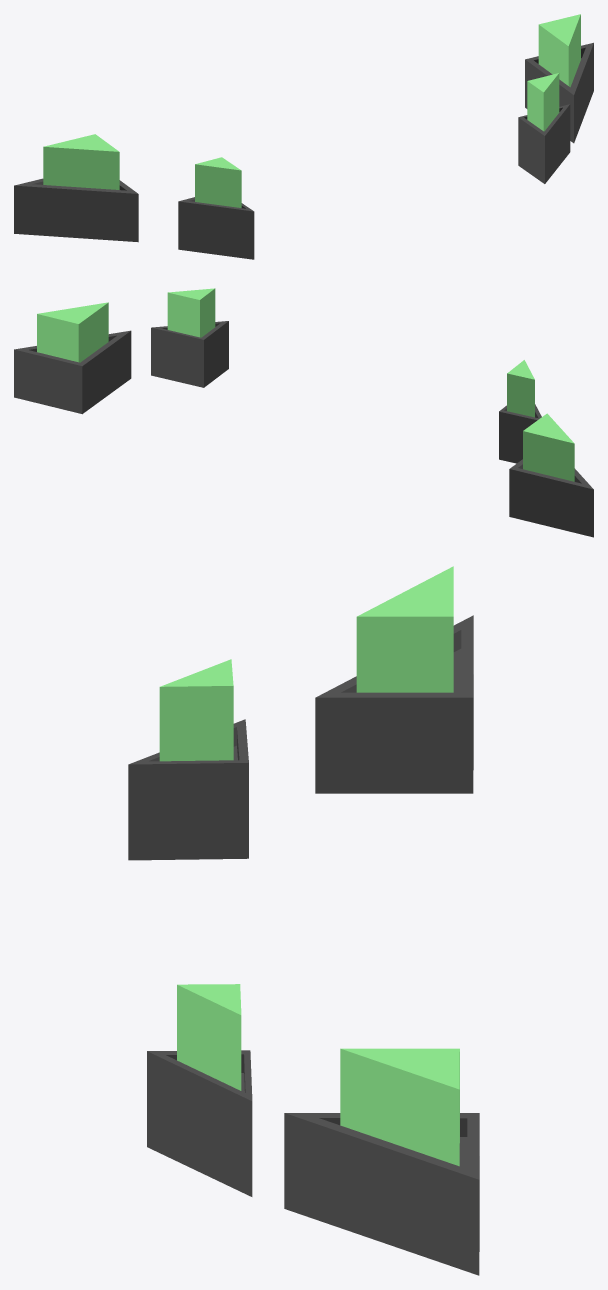
Rendered from Plants_Middle_Building.fbx.
3 renders of one model, top to bottom at view 1: azimuth 30°, elevation 25°; view 2: azimuth 150°, elevation 25°; view 3: azimuth 270°, elevation 25°, orthographic. The views are drawn at different scales.
Parts seen in each view (by area): view 1: Plant 2; view 2: Plant 2; view 3: Plant 2.
Boxes of the visible parts, bbox=[...] form: Plant 2: bbox=[14, 14, 593, 259]; Plant 2: bbox=[14, 288, 593, 537]; Plant 2: bbox=[128, 566, 479, 1275].
Bounding box in the file's own units: 1322 × 348 × 184.
